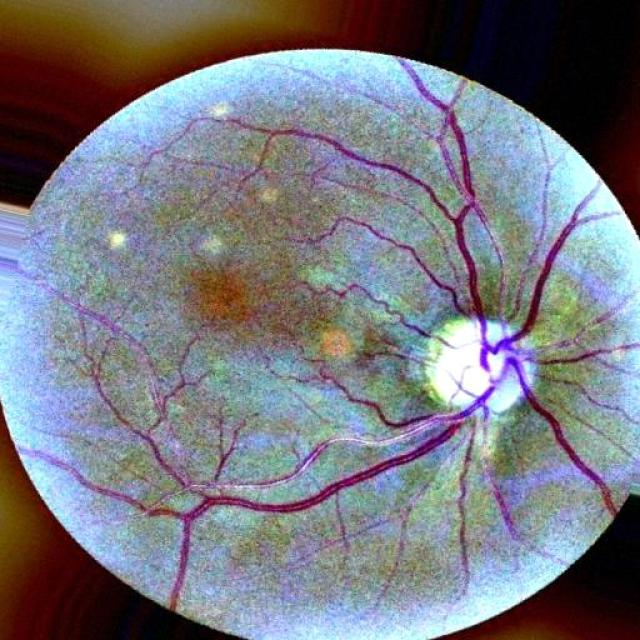Macula: (170, 258, 277, 346)
Nerves: (31, 91, 608, 594)
Optic Disk: (396, 302, 581, 438)
